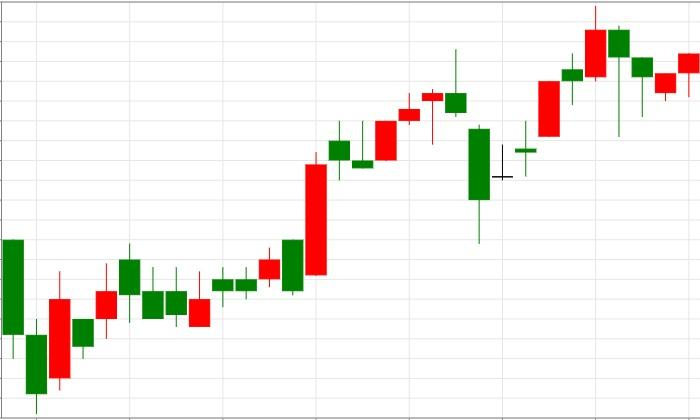hanging_man_fall: (469, 6, 630, 244)
shooting_star_fall: (352, 49, 466, 168)
